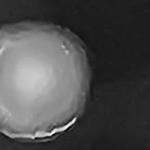colony: (0, 13, 104, 140)
